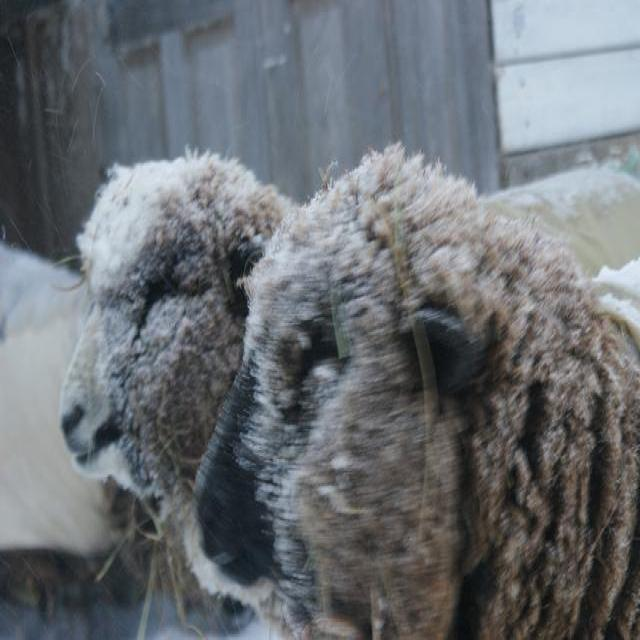Sheep: (197, 162, 639, 632), (55, 148, 292, 627)
